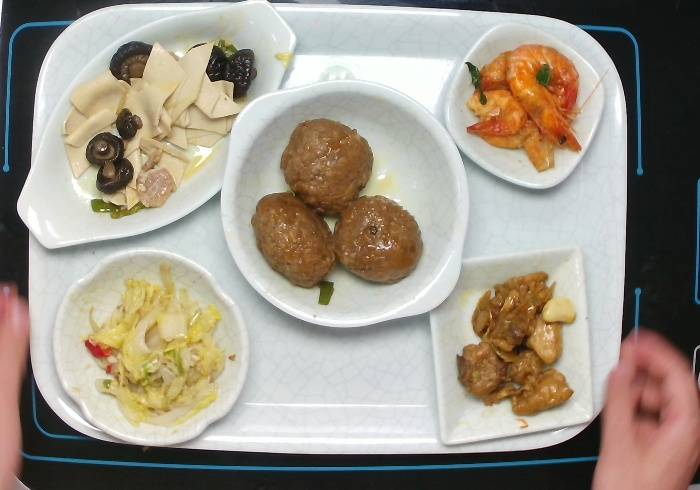JYsf-Ao_Yuan_Wan: (42, 237, 253, 450)
JYsf-Shuang_Er_Wan: (215, 77, 473, 331)
JYsf-Si_Fang_Die: (438, 20, 610, 194)
JYsf-Yu_Pan: (13, 1, 297, 253)
WCQzf-Ru_Ci_Si_Fang_Die: (424, 242, 596, 451)
